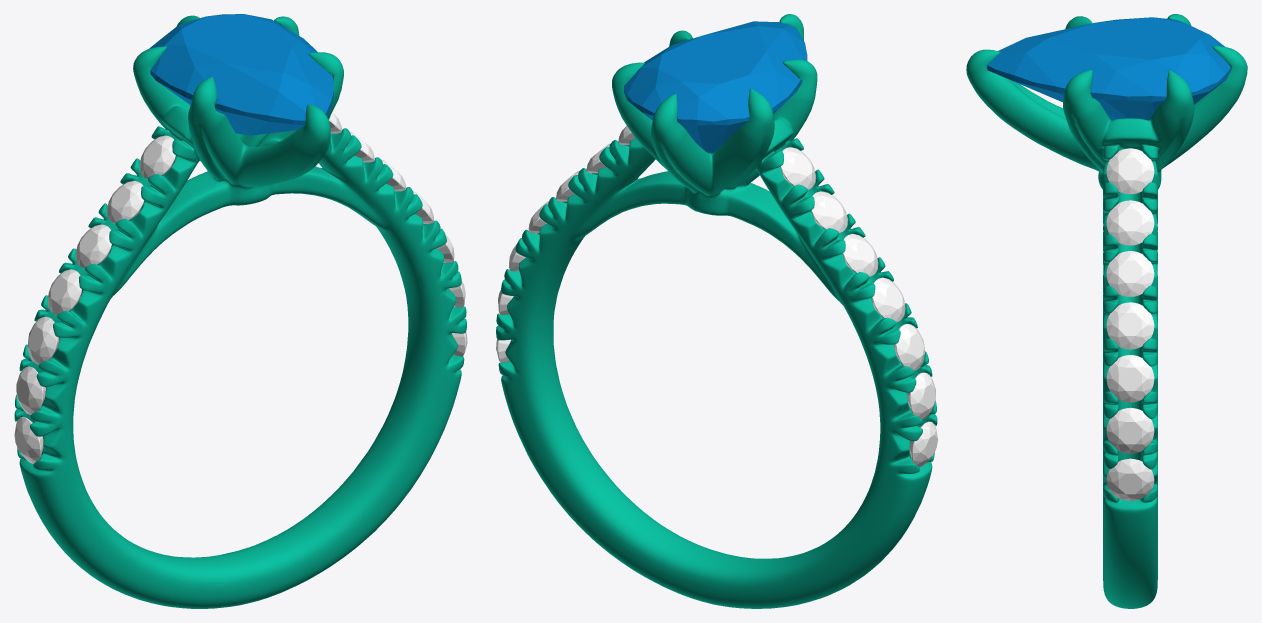
The model's file is BE1D1420_PE_200ct_RENDER.glb.
The picture shows the model from 3 angles, left to right: view 1: azimuth 30°, elevation 25°; view 2: azimuth 150°, elevation 25°; view 3: azimuth 270°, elevation 25°; orthographic projection. The views are drawn at different scales.
Visible parts, largest first — view 1: Metal 01, CS_Diamond_Pear, Diamond_Round_Gem_SH.010, Diamond_Round_Gem_SH.011, Diamond_Round_Gem_SH.012, Diamond_Round_Gem_SH.013, Diamond_Round_Gem_SH.009, Diamond_Round_Gem_SH.008, Diamond_Round_Gem_SH.007; view 2: Metal 01, CS_Diamond_Pear, Diamond_Round_Gem_SH.010, Diamond_Round_Gem_SH.011, Diamond_Round_Gem_SH.012, Diamond_Round_Gem_SH.013, Diamond_Round_Gem_SH.009, Diamond_Round_Gem_SH.008, Diamond_Round_Gem_SH.007; view 3: Metal 01, CS_Diamond_Pear, Diamond_Round_Gem_SH.002, Diamond_Round_Gem_SH.003, Diamond_Round_Gem_SH.001, Diamond_Round_Gem_SH.004, Diamond_Round_Gem_SH.006, Diamond_Round_Gem_SH.005, Diamond_Round_Gem_SH.
Part boxes in pixels (left/top/right/bottom): Metal 01: left=14, top=15, right=466, bottom=608; CS_Diamond_Pear: left=149, top=14, right=333, bottom=135; Diamond_Round_Gem_SH.010: left=47, top=269, right=81, bottom=315; Diamond_Round_Gem_SH.011: left=75, top=224, right=111, bottom=268; Diamond_Round_Gem_SH.012: left=106, top=181, right=144, bottom=223; Diamond_Round_Gem_SH.013: left=139, top=135, right=175, bottom=179; Diamond_Round_Gem_SH.009: left=27, top=316, right=59, bottom=364; Diamond_Round_Gem_SH.008: left=16, top=366, right=45, bottom=414; Diamond_Round_Gem_SH.007: left=14, top=417, right=43, bottom=463; Metal 01: left=496, top=14, right=937, bottom=608; CS_Diamond_Pear: left=624, top=21, right=807, bottom=153; Diamond_Round_Gem_SH.010: left=872, top=277, right=905, bottom=322; Diamond_Round_Gem_SH.011: left=843, top=234, right=878, bottom=276; Diamond_Round_Gem_SH.012: left=811, top=191, right=847, bottom=232; Diamond_Round_Gem_SH.013: left=780, top=147, right=815, bottom=189; Diamond_Round_Gem_SH.009: left=894, top=324, right=924, bottom=370; Diamond_Round_Gem_SH.008: left=907, top=372, right=935, bottom=419; Diamond_Round_Gem_SH.007: left=909, top=421, right=937, bottom=467; Metal 01: left=966, top=14, right=1247, bottom=608; CS_Diamond_Pear: left=987, top=17, right=1231, bottom=120; Diamond_Round_Gem_SH.002: left=1106, top=355, right=1154, bottom=402; Diamond_Round_Gem_SH.003: left=1106, top=302, right=1154, bottom=349; Diamond_Round_Gem_SH.001: left=1106, top=407, right=1154, bottom=453; Diamond_Round_Gem_SH.004: left=1106, top=251, right=1154, bottom=296; Diamond_Round_Gem_SH.006: left=1106, top=148, right=1154, bottom=194; Diamond_Round_Gem_SH.005: left=1106, top=200, right=1154, bottom=245; Diamond_Round_Gem_SH: left=1106, top=458, right=1154, bottom=500.
Size of the model in its own units: 20.99 by 25.37 by 11.81.
